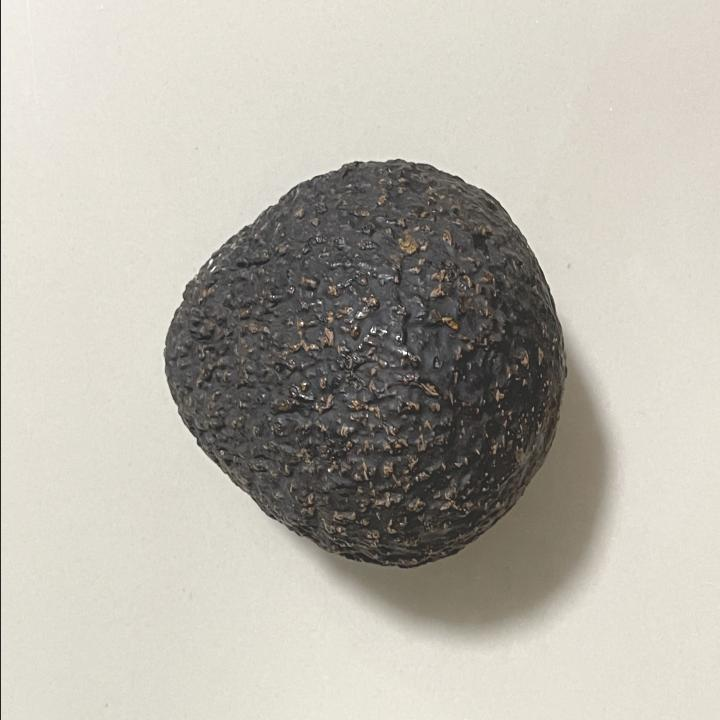Level3: (154, 146, 576, 579)
